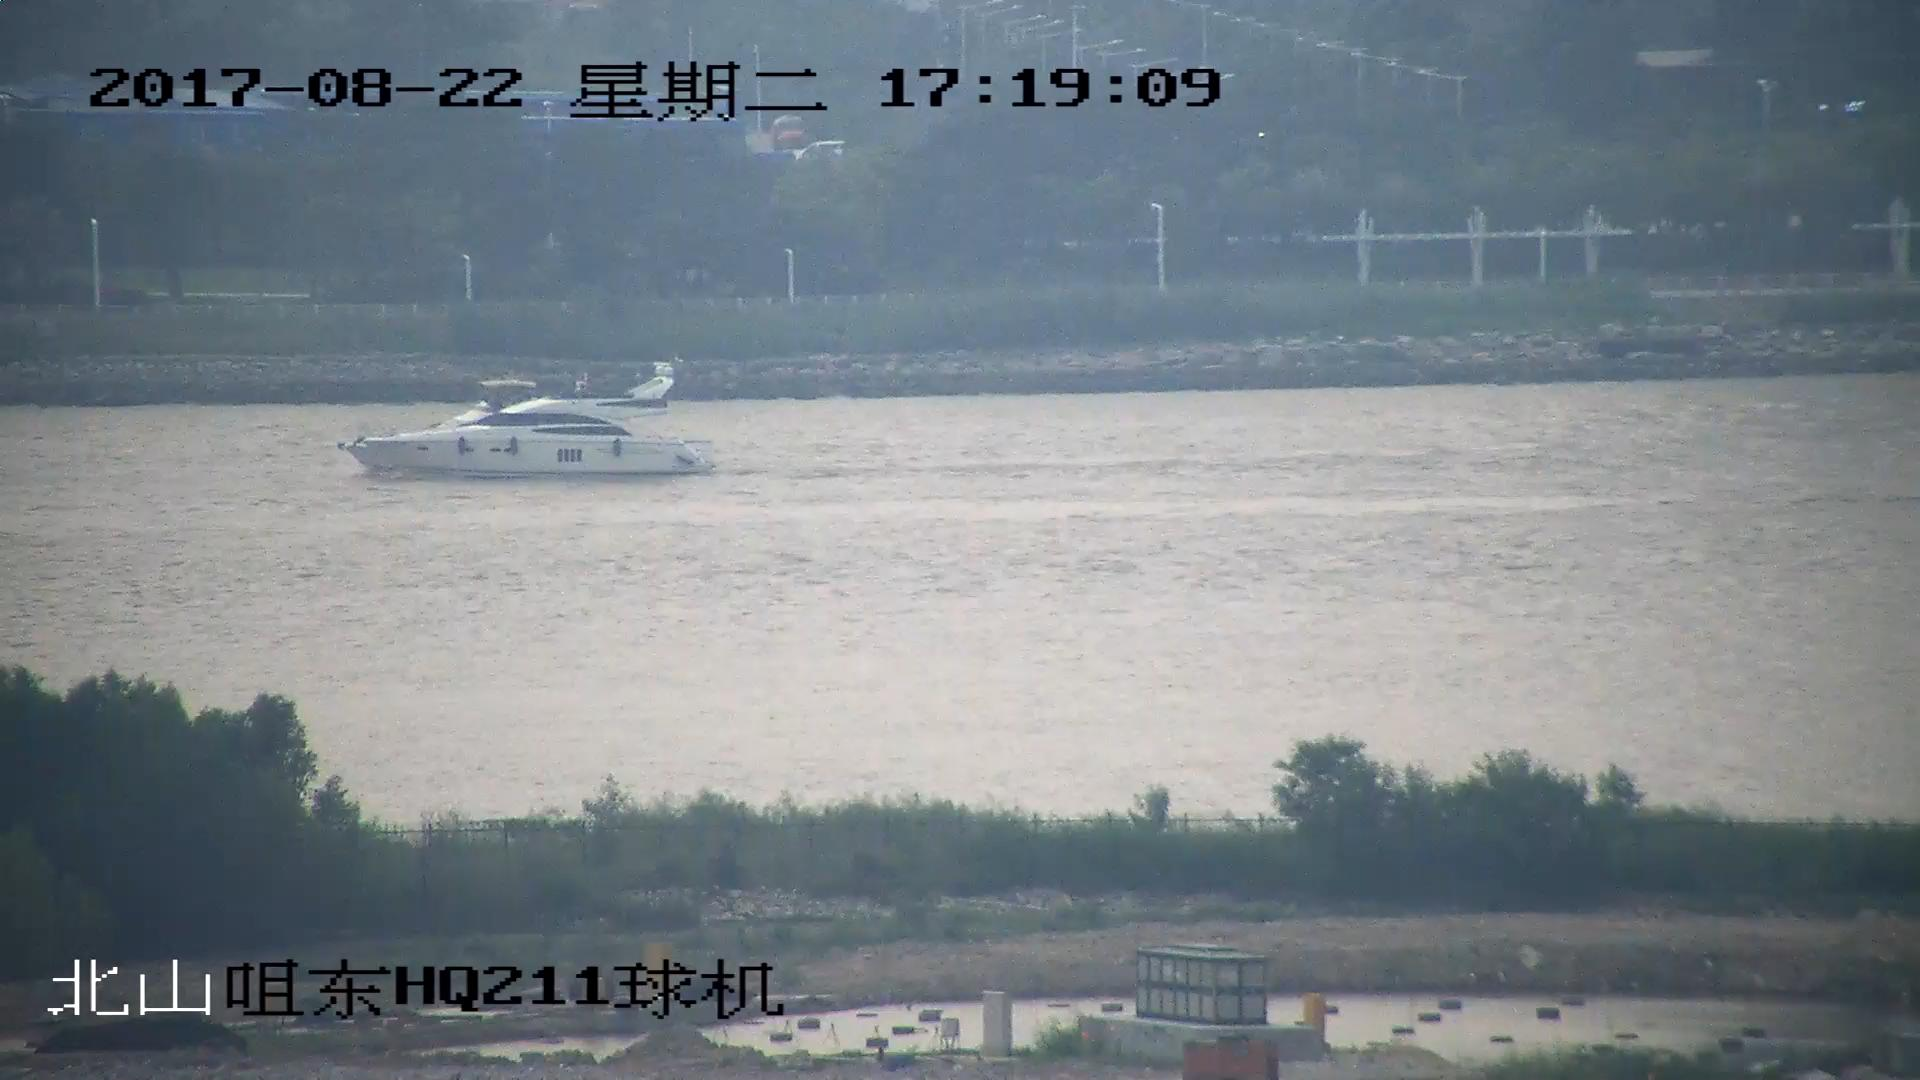passenger ship: (334, 357, 716, 481)
